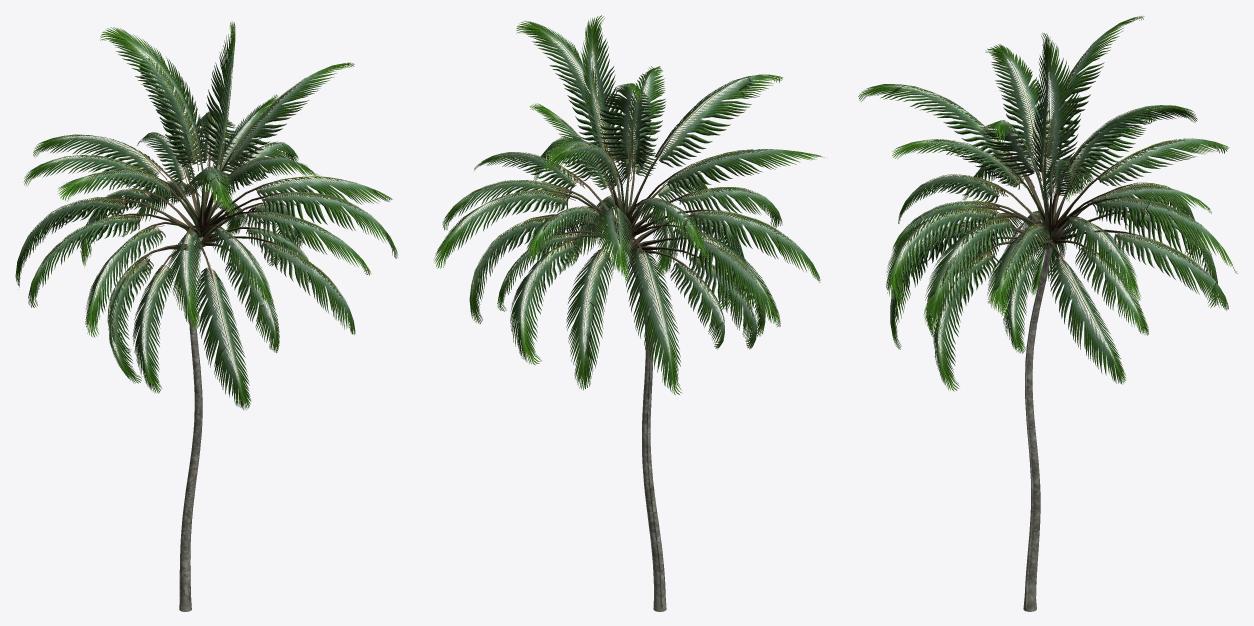
Rendered from fan-palm.glb.
The picture shows the model from 3 angles, left to right: view 1: azimuth 30°, elevation 25°; view 2: azimuth 150°, elevation 25°; view 3: azimuth 270°, elevation 25°; orthographic projection. The views are drawn at different scales.
Visible parts, largest first — view 1: SM_MZRa_Palm_B082; view 2: SM_MZRa_Palm_B082; view 3: SM_MZRa_Palm_B082.
Part boxes in pixels (<box>): SM_MZRa_Palm_B082: <box>15,21,398,611</box>; SM_MZRa_Palm_B082: <box>433,15,824,611</box>; SM_MZRa_Palm_B082: <box>858,16,1238,611</box>.
Bounding box in the file's own units: 4.43 × 6.98 × 4.
2 materials, 2 textured.
